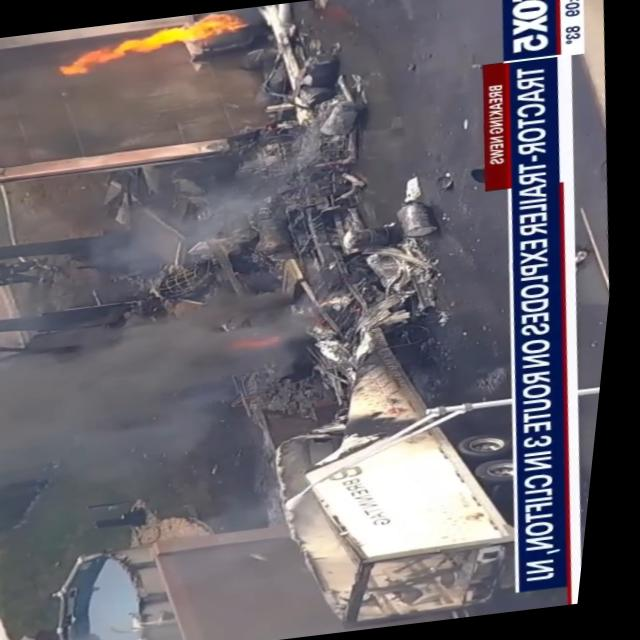Fire: (42, 7, 254, 79)
